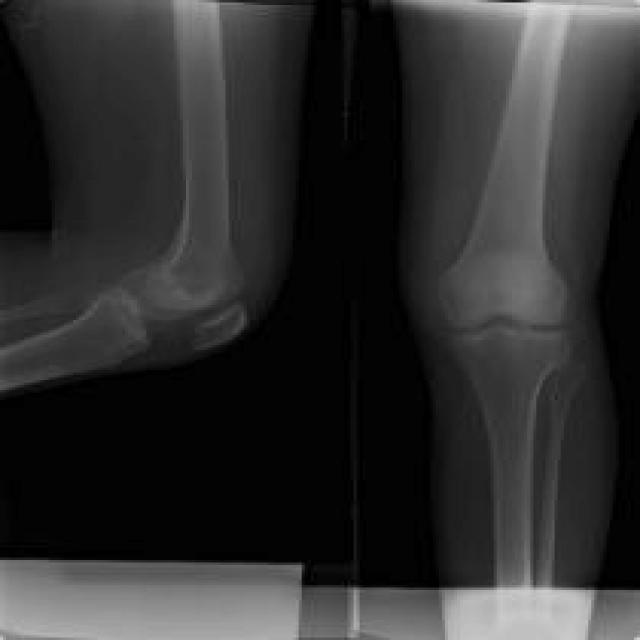normal: (439, 0, 577, 330), (459, 331, 570, 640), (130, 0, 236, 315), (3, 293, 149, 387), (538, 370, 588, 640), (0, 289, 101, 323), (191, 303, 249, 352)
